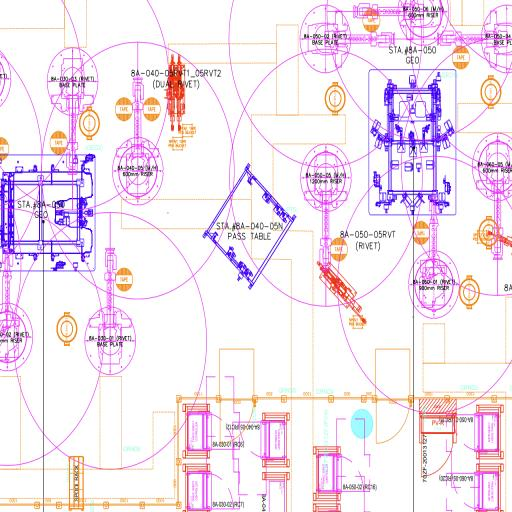robot: (299, 2, 397, 78), (45, 44, 100, 177), (110, 76, 166, 206), (84, 244, 138, 377), (298, 141, 353, 269)
